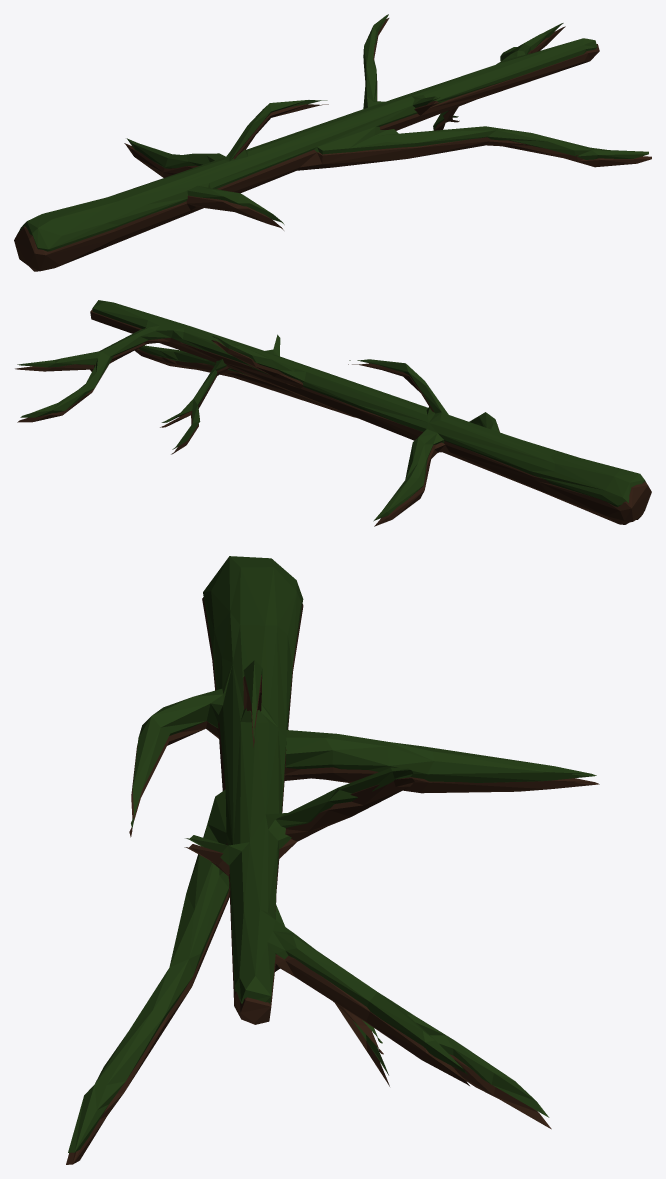
Rendered from SM_tree_dead_02.fbx.
3 renders of one model, top to bottom at view 1: azimuth 30°, elevation 25°; view 2: azimuth 150°, elevation 25°; view 3: azimuth 270°, elevation 25°, orthographic. The views are drawn at different scales.
Parts seen in each view (by area): view 1: Object022; view 2: Object022; view 3: Object022.
Boxes of the visible parts, box(x1,y1,x2,y2) form: Object022: box(14, 14, 651, 271); Object022: box(15, 300, 651, 526); Object022: box(66, 556, 599, 1164).
Size of the model in its own units: 449 by 100 by 181.
